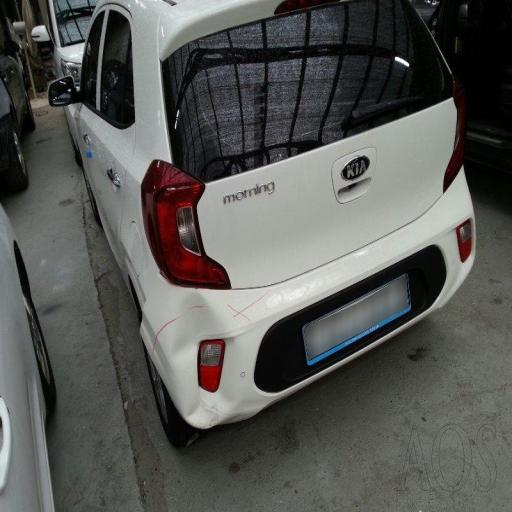dent: (138, 257, 349, 435)
